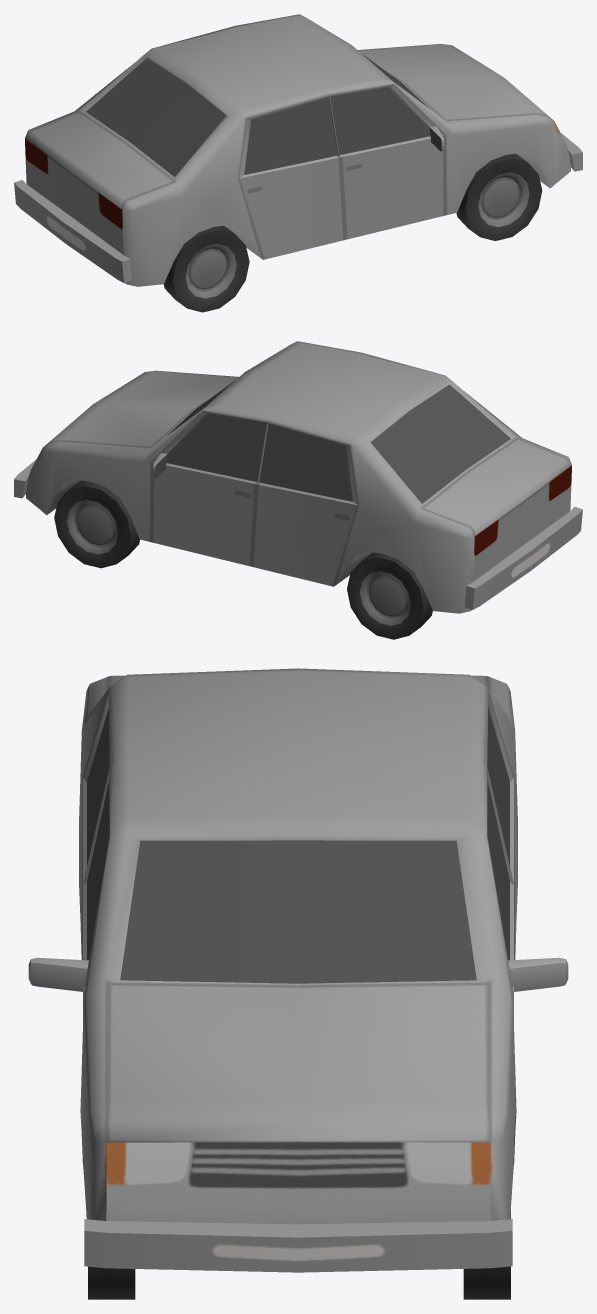
Rendered from Sedan.FBX.
3 renders of one model, top to bottom at view 1: azimuth 30°, elevation 25°; view 2: azimuth 150°, elevation 25°; view 3: azimuth 270°, elevation 25°, orthographic. The views are drawn at different scales.
Visible parts, largest first — view 1: Avto, Wheel FR, Wheel BR; view 2: Avto, Wheel FL, Wheel BL; view 3: Avto, Wheel FL, Wheel FR.
Part boxes in pixels (box(x1,y1,x2,y2)): Avto: box(14, 14, 582, 286); Wheel FR: box(456, 153, 542, 240); Wheel BR: box(163, 225, 249, 312); Avto: box(14, 341, 582, 613); Wheel FL: box(54, 480, 139, 568); Wheel BL: box(347, 552, 432, 639); Avto: box(28, 668, 568, 1272); Wheel FL: box(463, 1210, 510, 1299); Wheel FR: box(88, 1266, 135, 1299).
Bounding box in the file's own units: 56.04 × 21.22 × 27.76.
